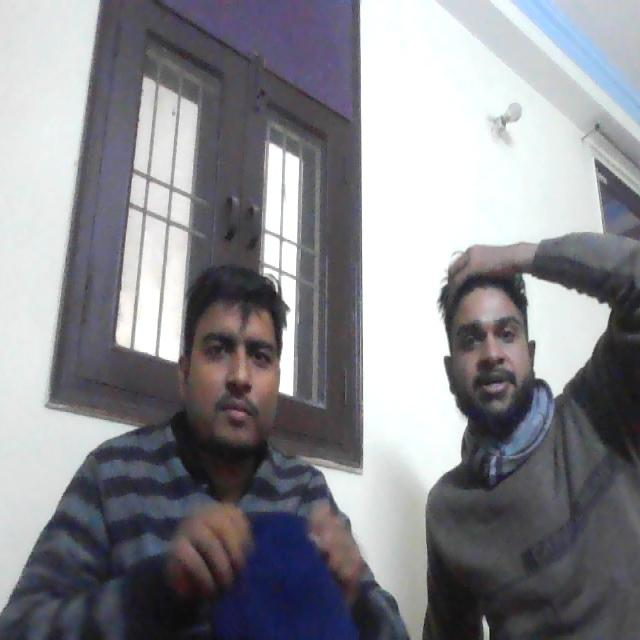real: (177, 249, 289, 462), (440, 225, 551, 436)
